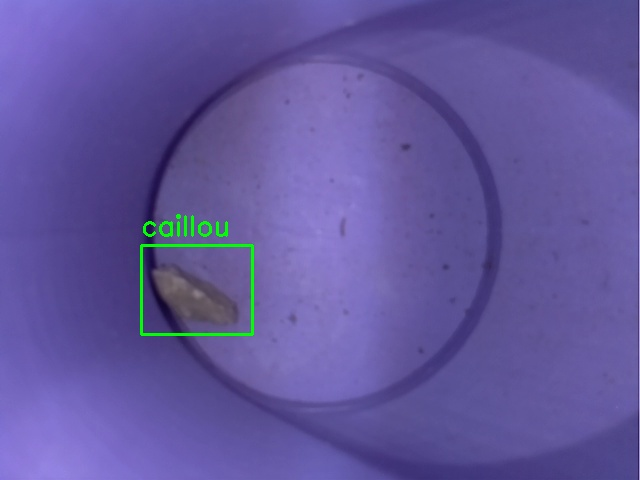caillou: (141, 245, 252, 334)
